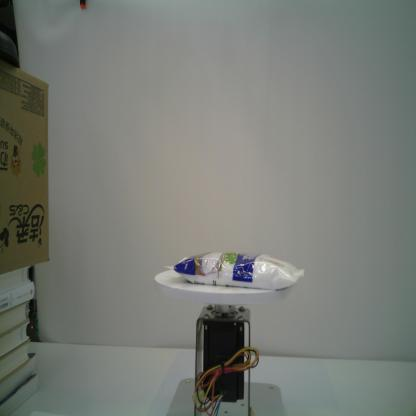Seasoner: (162, 247, 306, 292)
